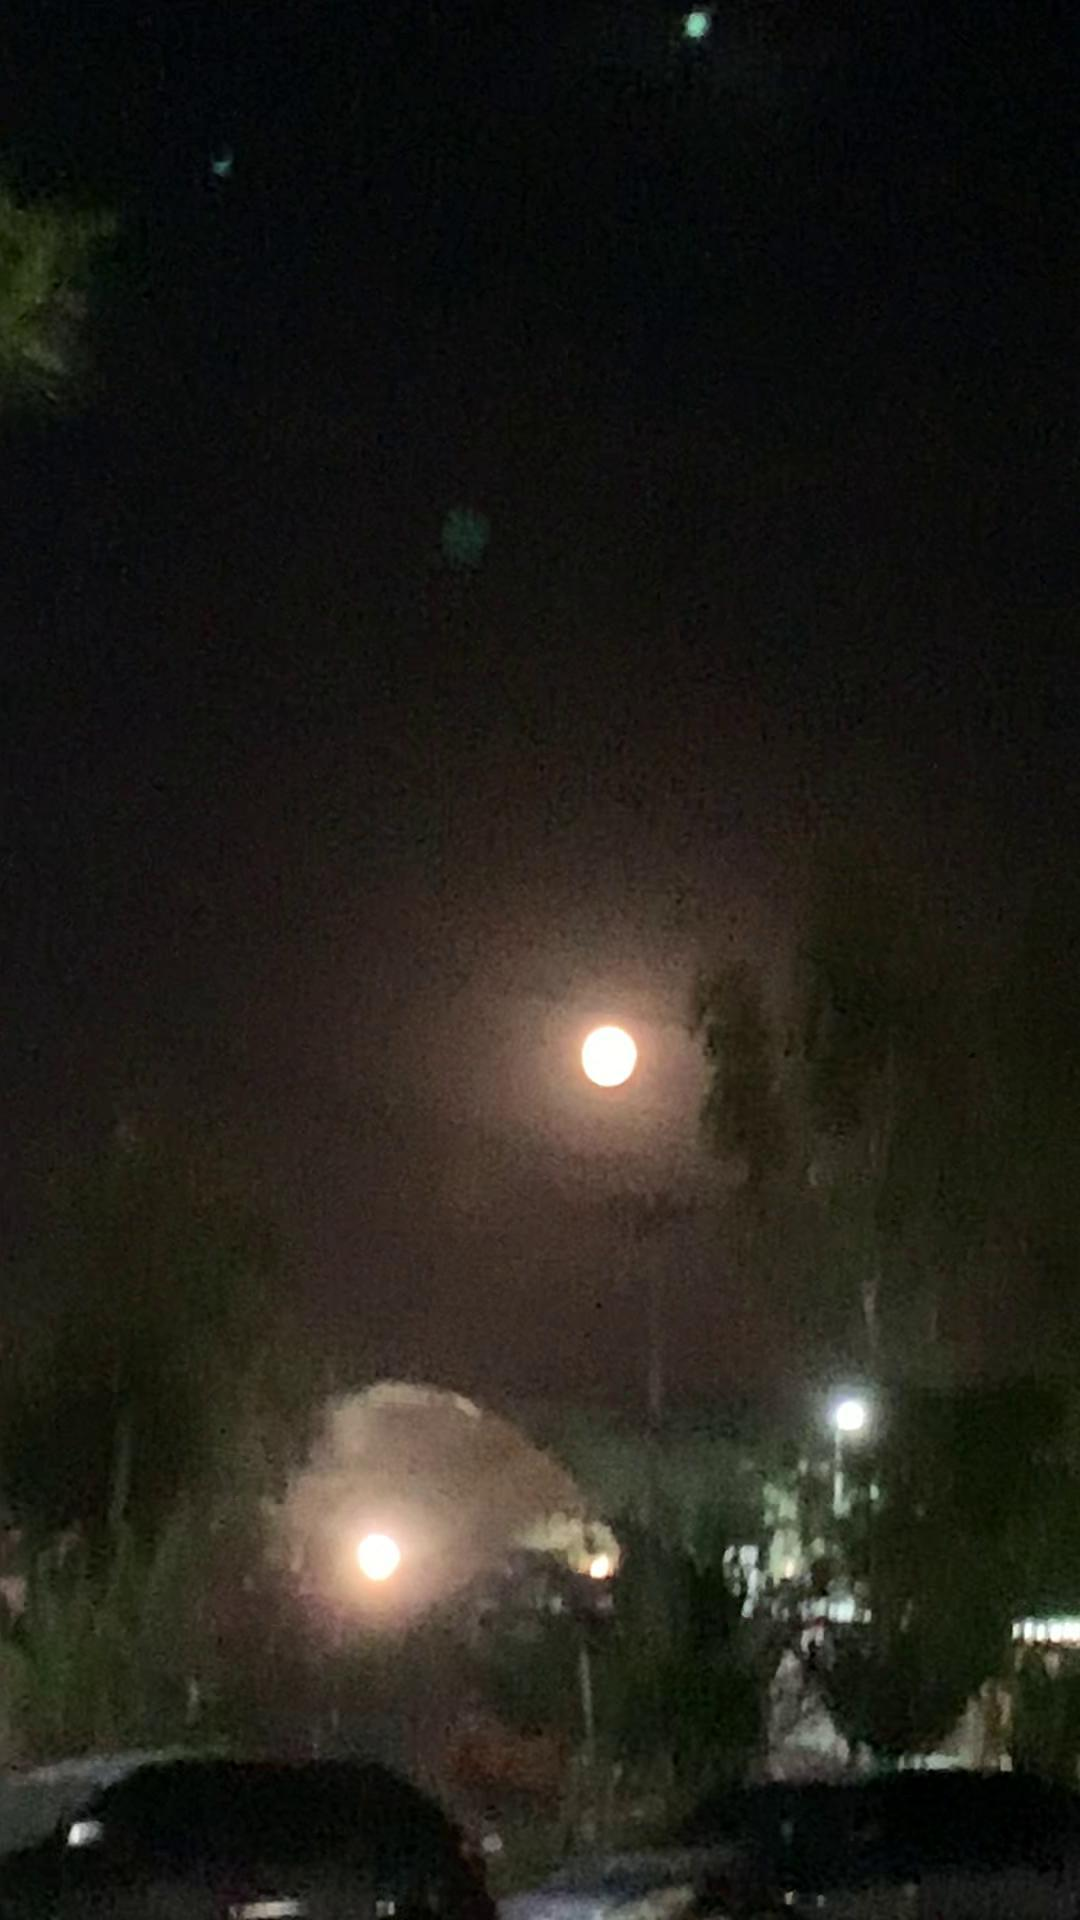moon: (570, 1031, 641, 1102)
